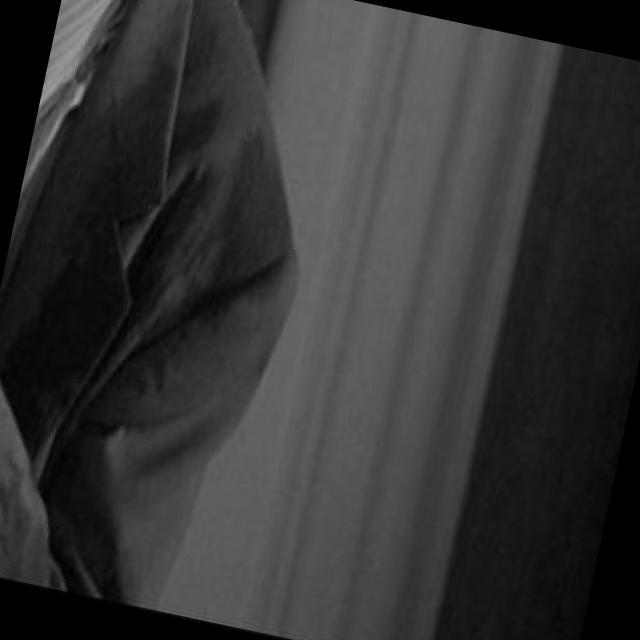Guns: (0, 0, 99, 325)
